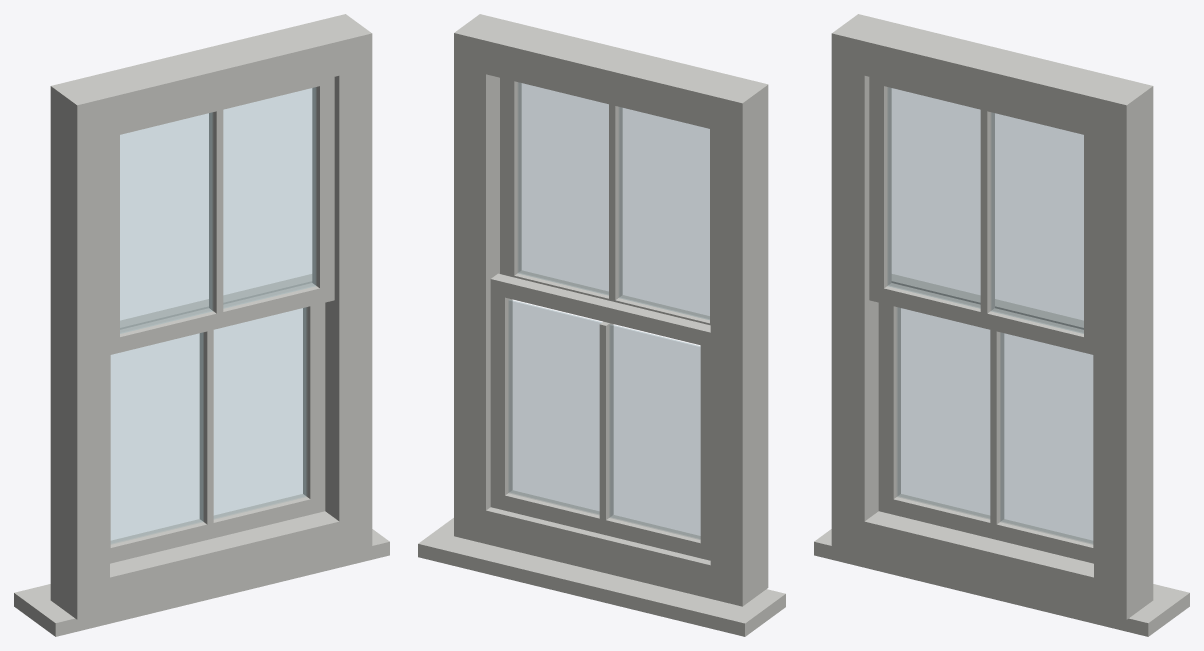
File: opening.window.sash_900x1500.glb
3 views of the same model, side by side, from view 1: azimuth 30°, elevation 25°; view 2: azimuth 150°, elevation 25°; view 3: azimuth 330°, elevation 25° (orthographic). The views are drawn at different scales.
Parts seen in each view (by area): view 1: frame__paint_white, glazing__glass; view 2: frame__paint_white, glazing__glass; view 3: frame__paint_white, glazing__glass.
Part boxes in pixels (x1=…): frame__paint_white: x1=14, y1=14, x2=389, y2=636; glazing__glass: x1=111, y1=87, x2=316, y2=544; frame__paint_white: x1=418, y1=14, x2=785, y2=636; glazing__glass: x1=508, y1=82, x2=709, y2=539; frame__paint_white: x1=814, y1=14, x2=1189, y2=636; glazing__glass: x1=887, y1=87, x2=1092, y2=544.
Size of the model in its own units: 1.02 by 1.54 by 0.23.
